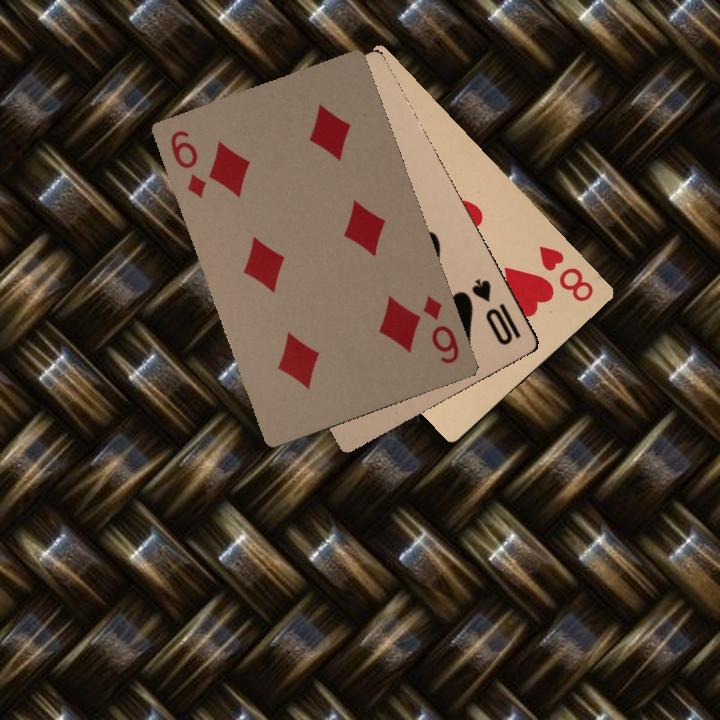10s: (467, 274, 523, 348)
6d: (418, 291, 462, 366), (166, 126, 209, 201)
8h: (535, 241, 596, 305)
